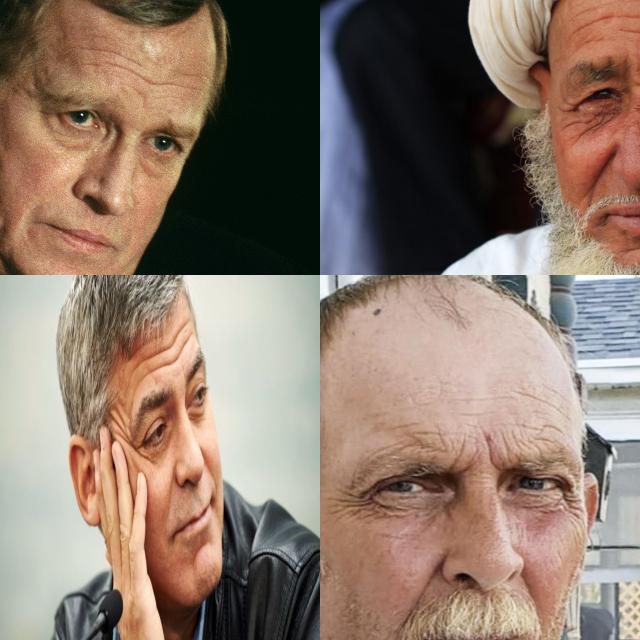chin: (618, 242, 640, 254), (189, 553, 198, 579)
crows_feet: (338, 481, 376, 517), (561, 481, 587, 521), (558, 102, 586, 128)
forehead: (494, 422, 554, 452), (89, 46, 140, 74), (514, 386, 564, 414), (414, 422, 456, 453), (449, 387, 505, 409), (570, 5, 602, 42), (142, 72, 172, 100), (173, 69, 203, 95), (110, 400, 130, 438), (174, 312, 191, 354), (128, 356, 149, 387), (152, 336, 171, 370), (614, 5, 640, 19), (619, 24, 640, 40)
frown_line: (478, 434, 500, 468), (452, 441, 471, 473), (628, 76, 640, 92)
gummy_smile: (416, 550, 442, 606), (590, 150, 614, 193), (201, 451, 218, 482), (166, 473, 176, 513)
masseter: (0, 219, 8, 270)
